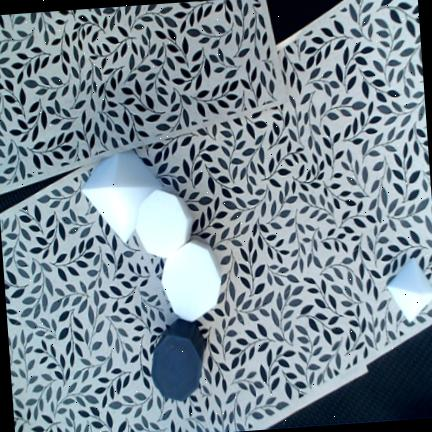Piramide: (80, 149, 163, 244), (386, 258, 432, 323)
Prisma_hexagonal: (160, 237, 221, 322), (151, 317, 205, 400), (136, 189, 193, 258)
